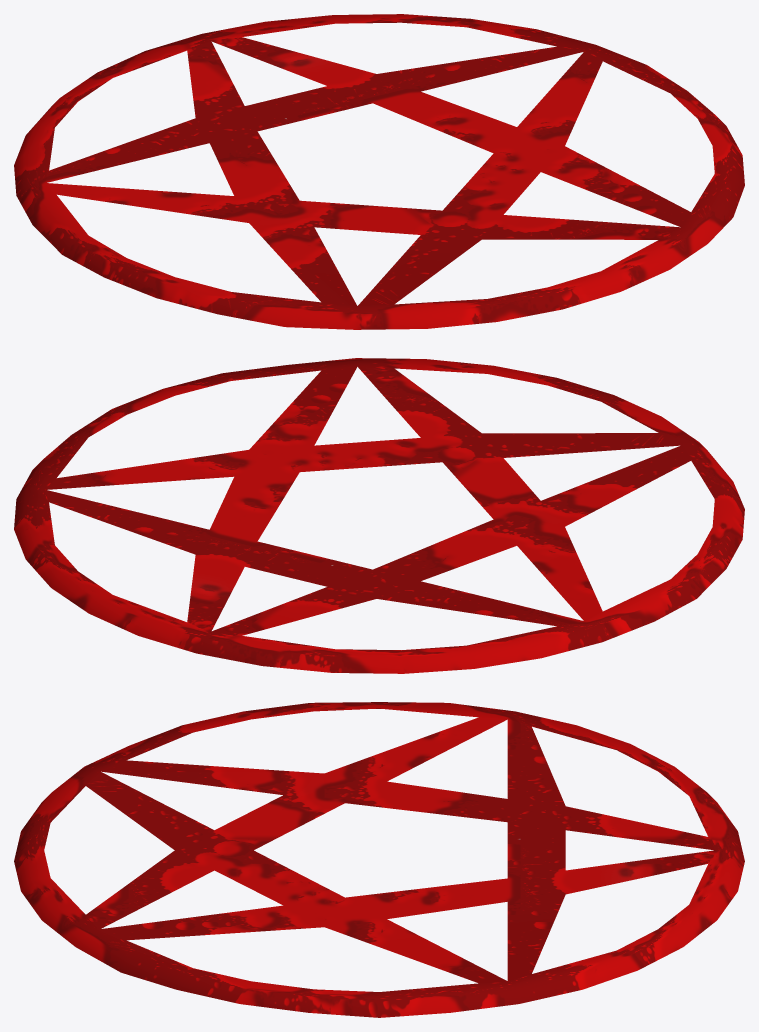
File: demoncircle.glb
3 views of the same model, one above another, from view 1: azimuth 30°, elevation 25°; view 2: azimuth 150°, elevation 25°; view 3: azimuth 270°, elevation 25° (orthographic).
Visible parts, largest first — view 1: DemonCircle_0; view 2: DemonCircle_0; view 3: DemonCircle_0.
Boxes of the visible parts, x1,y1,x2,y2 form: DemonCircle_0: (14, 14, 744, 329); DemonCircle_0: (14, 358, 744, 673); DemonCircle_0: (14, 702, 744, 1017).
Bounding box in the file's own units: 1.84 × 0.0373 × 1.84.
Materials: 1 (1 with a texture image).
